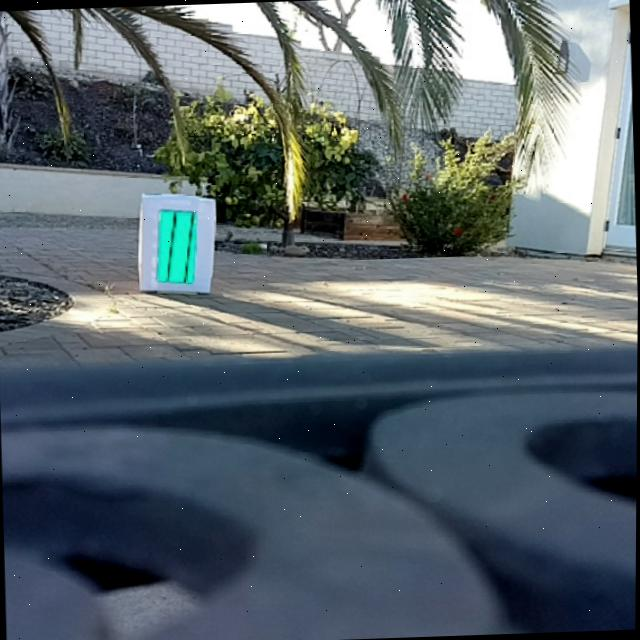led: (160, 207, 198, 286)
